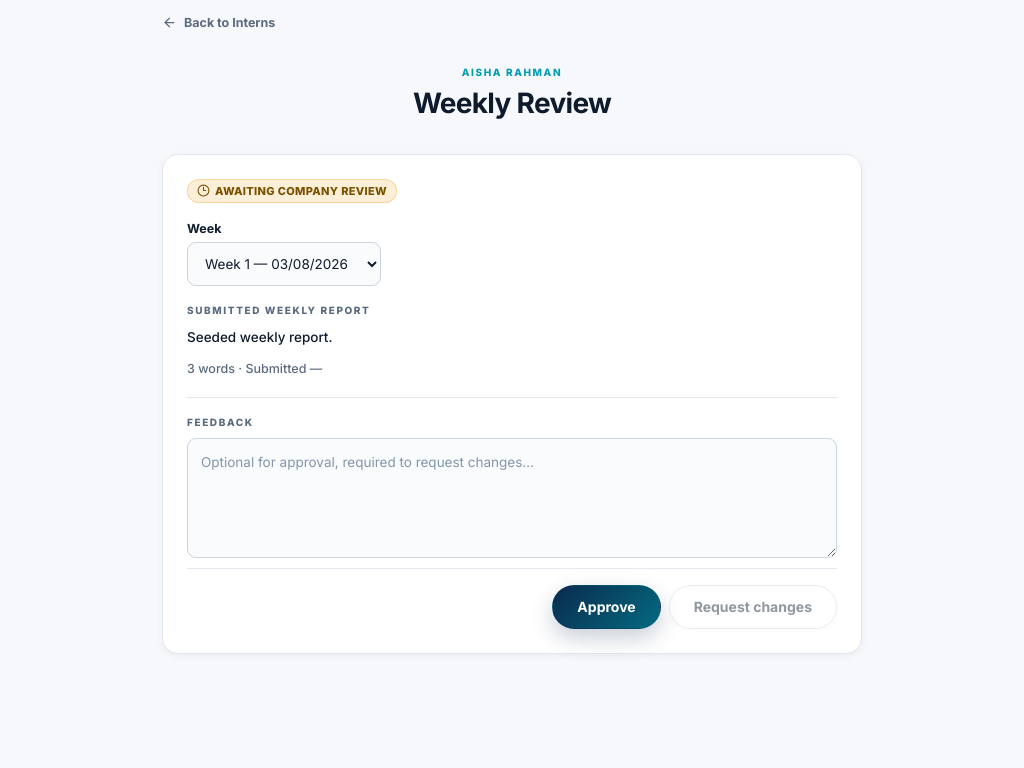
managed reviewer flows › approves a pending week with one atomic transition on double-click
Check: the text "Seeded weekly report." is shown, box [187, 329, 333, 345]
Click the button "Approve": point(607, 606) [552, 584, 661, 628]
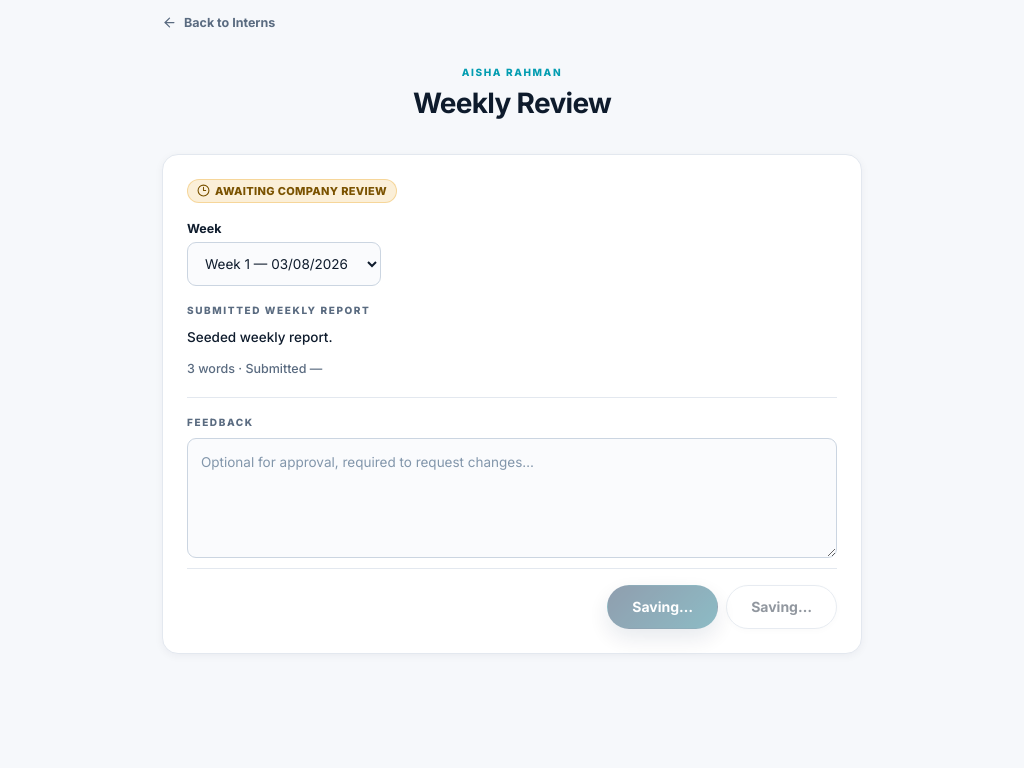
Click the button named "Approve": point(663, 606) [607, 584, 718, 628]
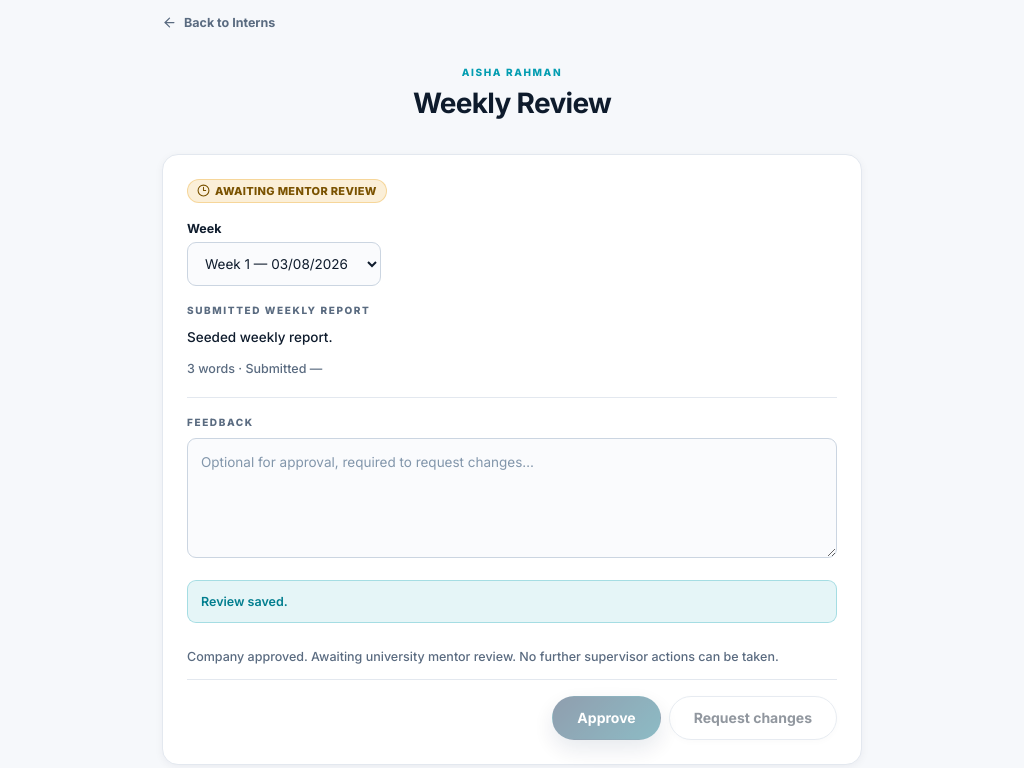
Check: the button "Approve" is disabled, box [552, 696, 661, 740]
Check: the text "Review saved." is shown, box [187, 580, 837, 623]
